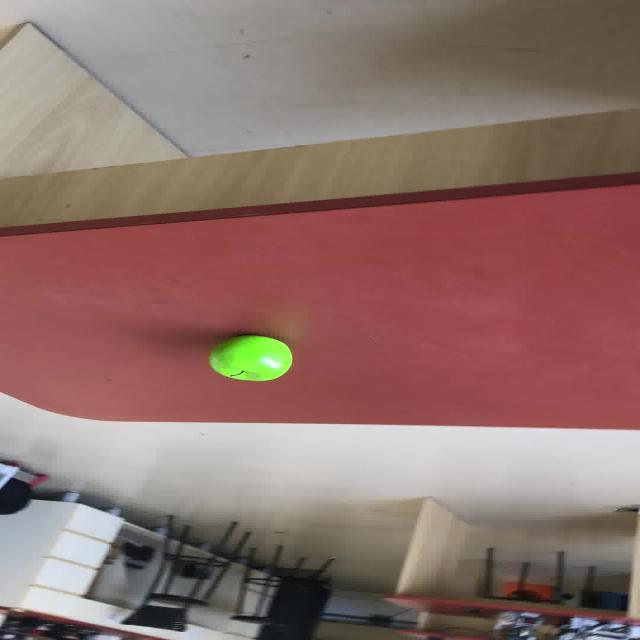apple: (207, 334, 293, 381)
